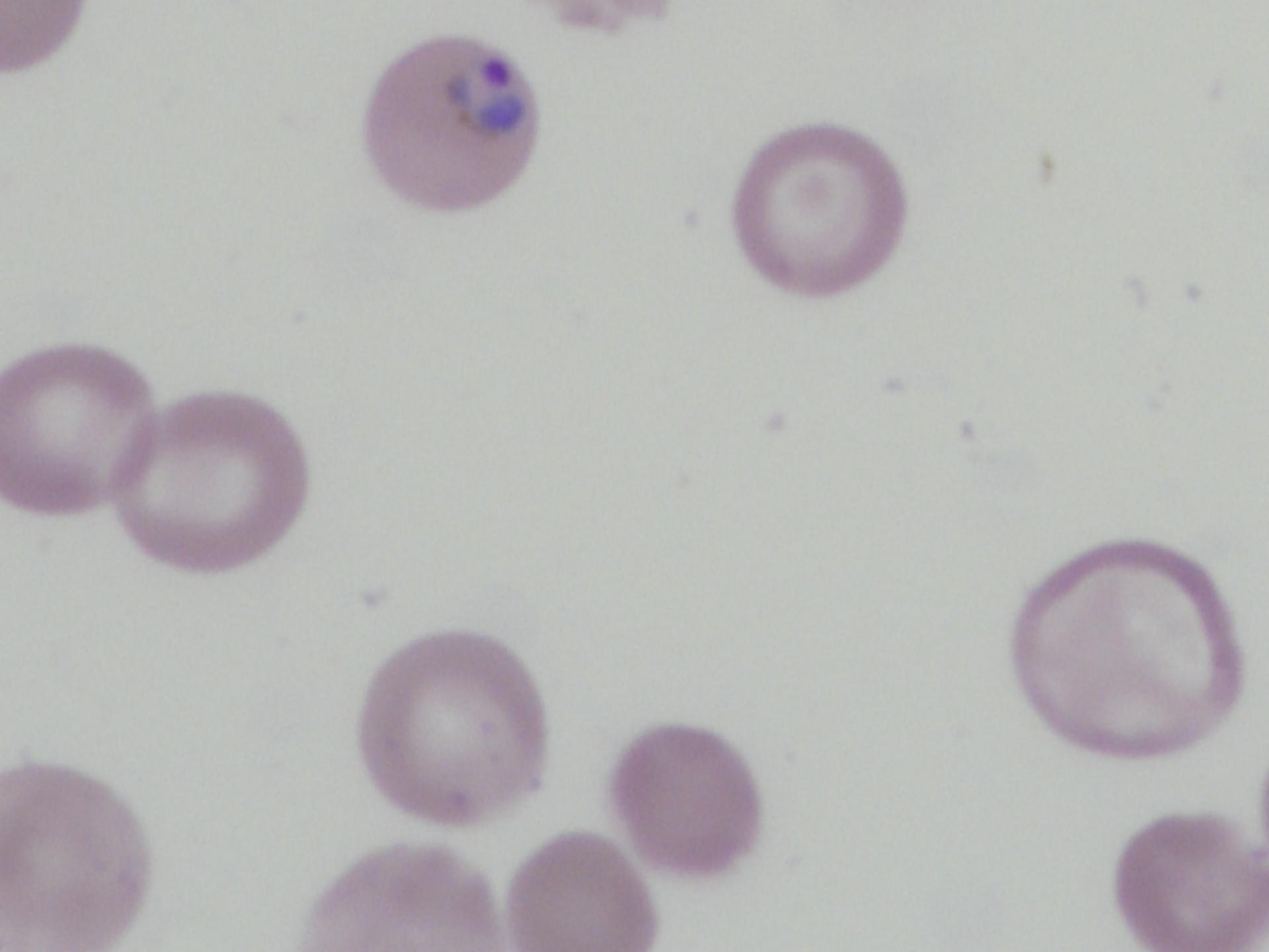Infected: (363, 36, 538, 207)
Uninfected: (1007, 540, 1234, 756), (359, 633, 549, 824), (119, 394, 311, 573), (731, 124, 905, 292), (1, 764, 147, 949), (0, 345, 156, 511), (615, 725, 759, 873), (303, 846, 502, 951), (1114, 816, 1259, 949), (509, 834, 651, 951)
